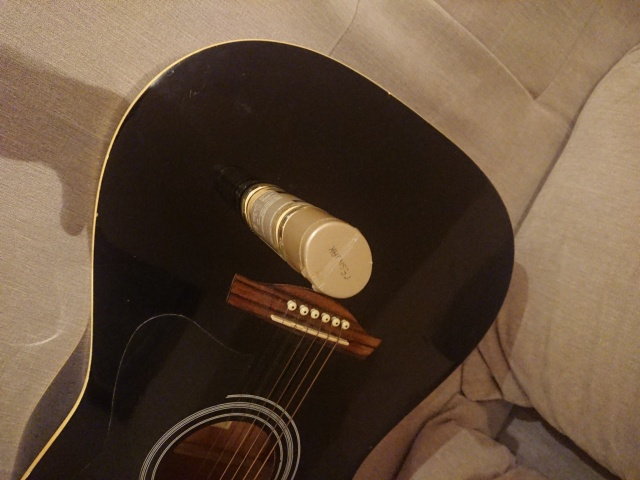Kotanyi Garlic Granules 70g: (237, 180, 376, 301)
